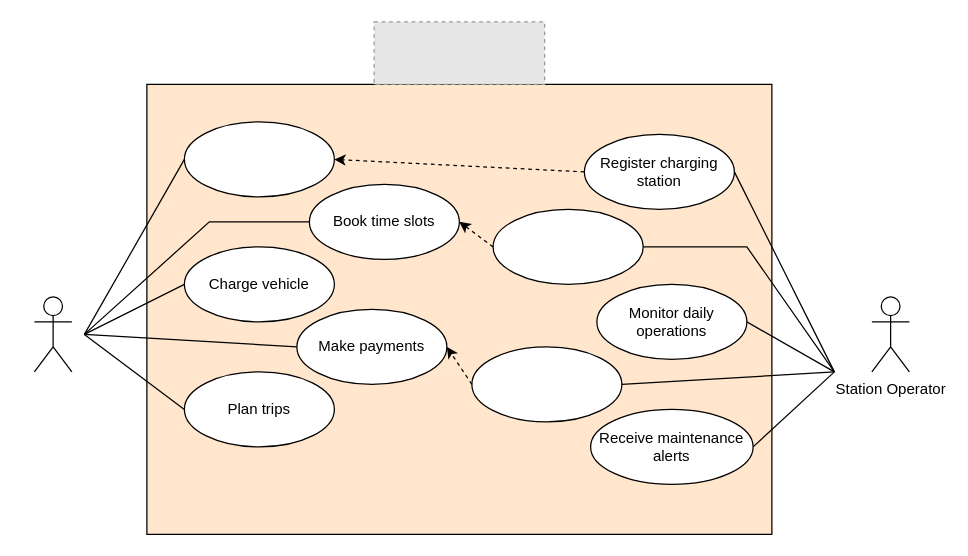
The diagram is 968 pixels wide and 556 high, and some of its shapes have lost their labels. Grey dashed boxes stand in for pictures. Each missing label, with the centre of its shape:
Configure off-peak discounts: the point at 546,384
EV Driver: the point at 52,334
Search for chargers: the point at 258,159
Update station availability: the point at 567,246
